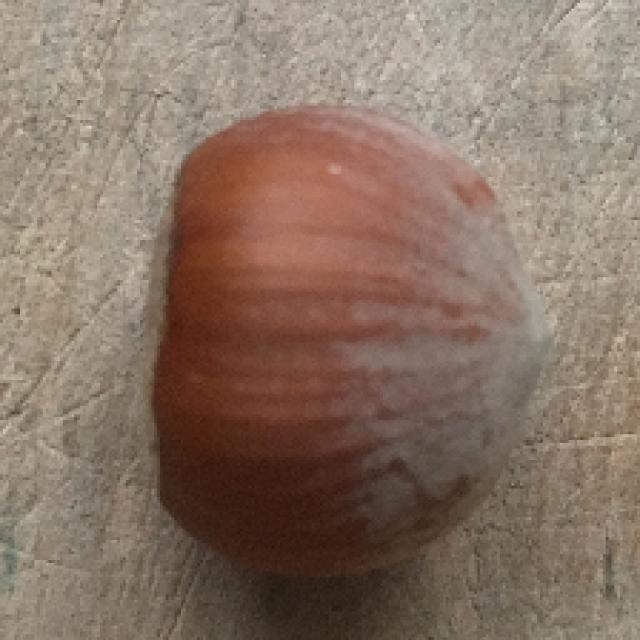qualityHazelnut: (136, 103, 552, 574)
